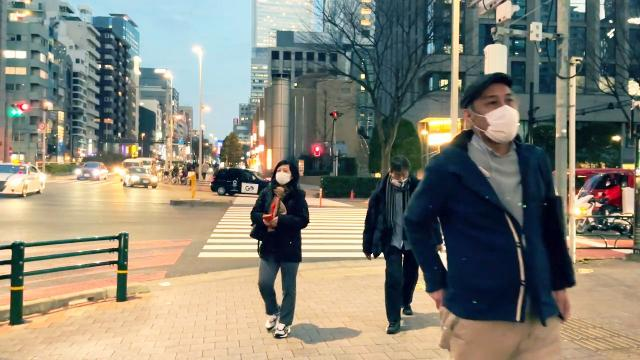berjalan: (398, 71, 579, 360), (358, 152, 424, 336), (245, 153, 305, 343)
